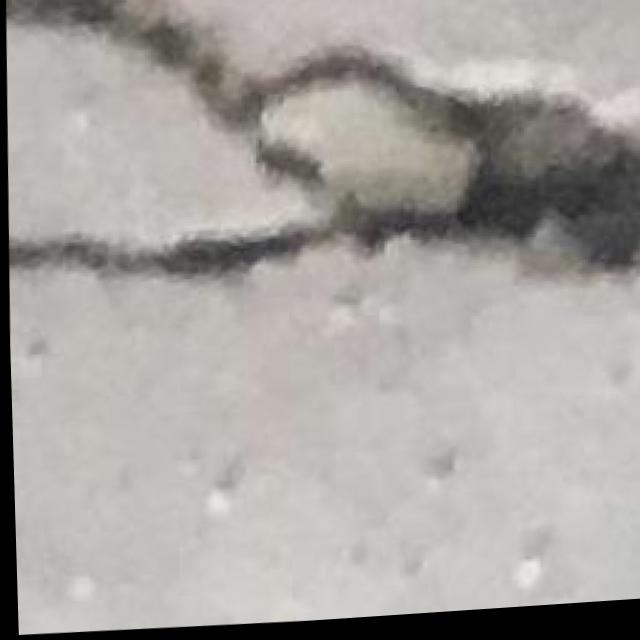Crack: (25, 0, 640, 359)
